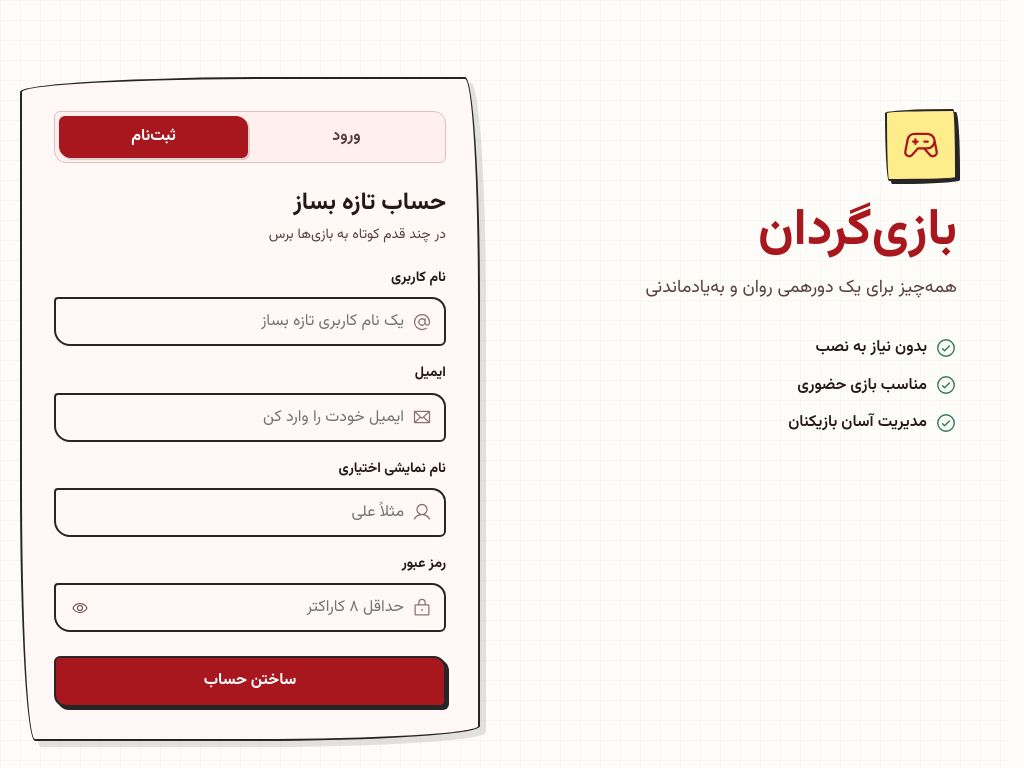
Test case: AuthPage - register mode › shows a validation error for an invalid email
The width and height of the screenshot is (1024, 768).
Type "validuser" into the field labelled "نام کاربری" at (236, 322), box [68,299,404,344]
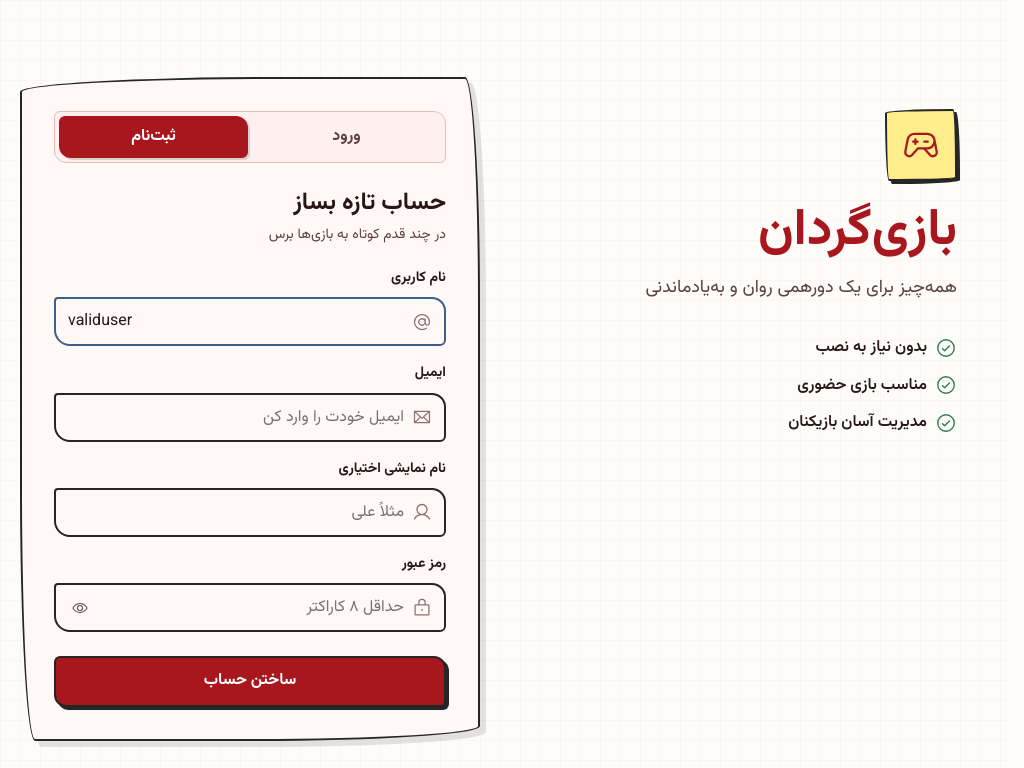
Type "not-an-email" into the field labelled "ایمیل" at (236, 417), box [68,395,404,440]
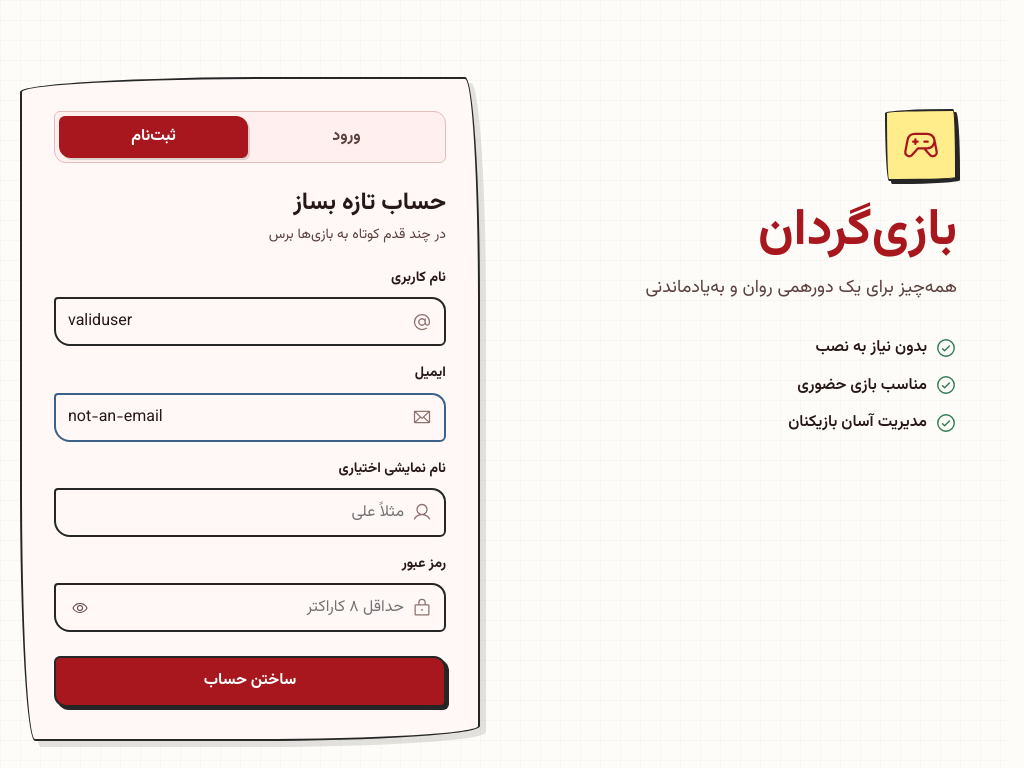
Type "longenoughpass" into the password field labelled "رمز عبور" at (257, 608), box [110,585,404,630]
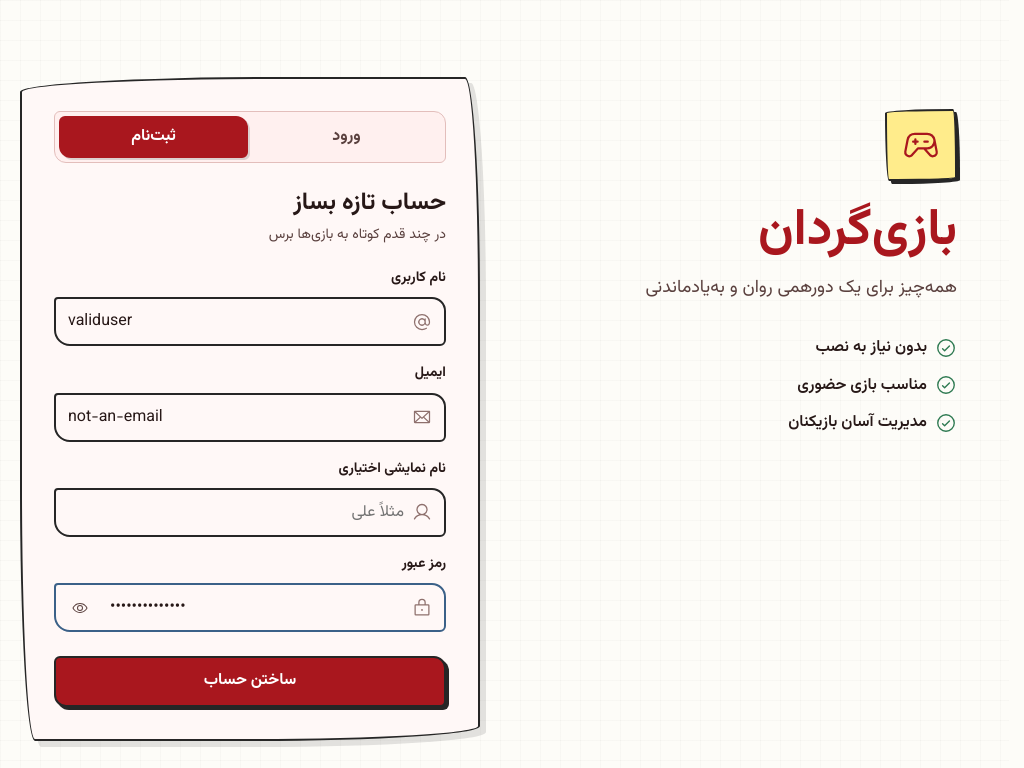
Click the button "ساختن حساب" at (250, 682), box [54,656,446,707]
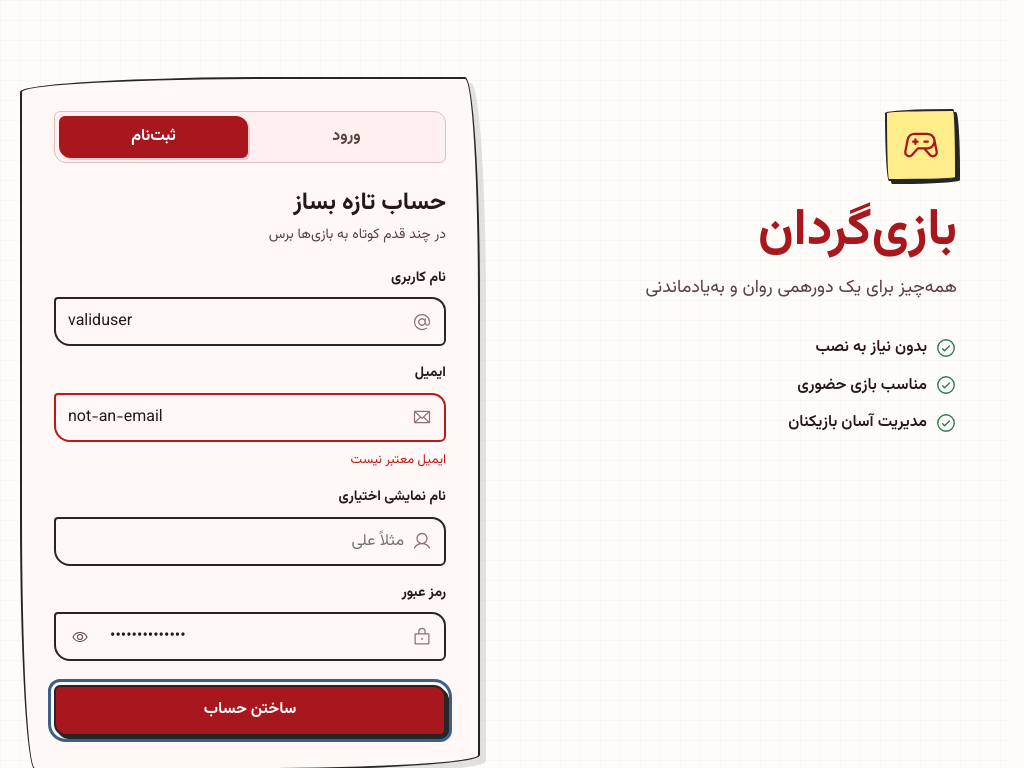
Check: the text "ایمیل معتبر نیست" is shown, box [351,450,446,470]
